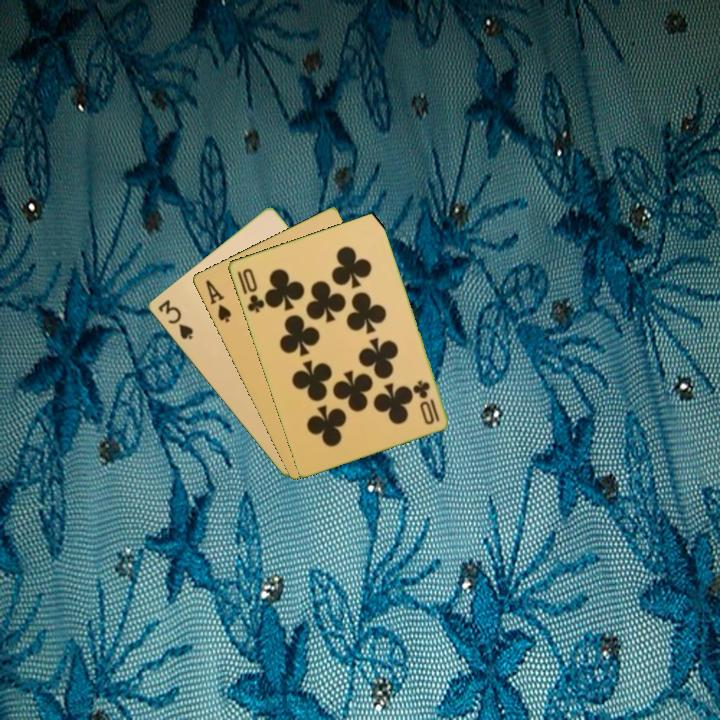10c: (233, 264, 267, 315), (410, 376, 442, 424)
3s: (154, 296, 196, 342)
As: (202, 276, 234, 326)
